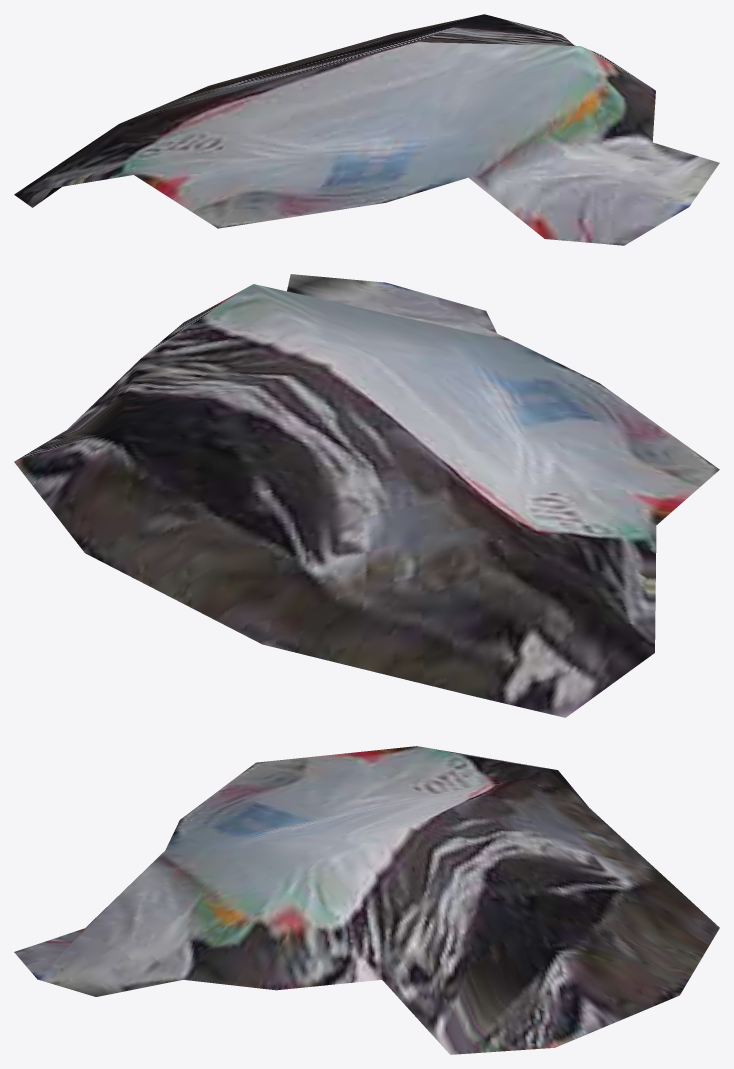
File: Garbage1C_LOD1.fbx
3 renders of one model, top to bottom at view 1: azimuth 30°, elevation 25°; view 2: azimuth 150°, elevation 25°; view 3: azimuth 270°, elevation 25°, orthographic. The views are drawn at different scales.
Parts seen in each view (by area): view 1: polySurface858; view 2: polySurface858; view 3: polySurface858.
Boxes of the visible parts, bbox=[...] form: polySurface858: bbox=[14, 14, 719, 245]; polySurface858: bbox=[14, 274, 719, 717]; polySurface858: bbox=[14, 746, 719, 1054].
Size of the model in its own units: 0.758 by 0.2204 by 0.7279.
